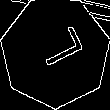L_SW: (26, 27, 84, 77)
